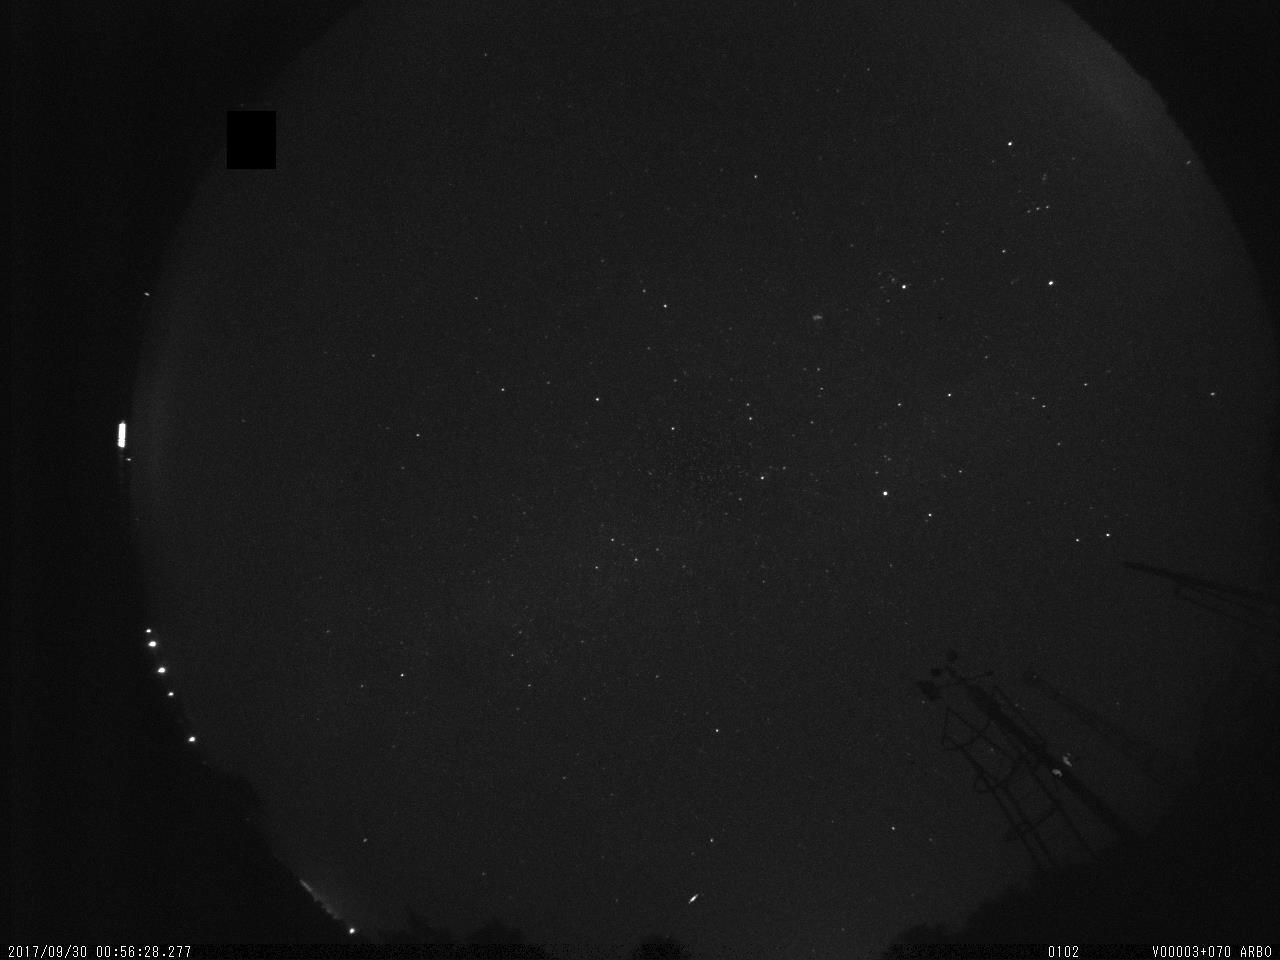TLE: (1039, 744, 1078, 783)
